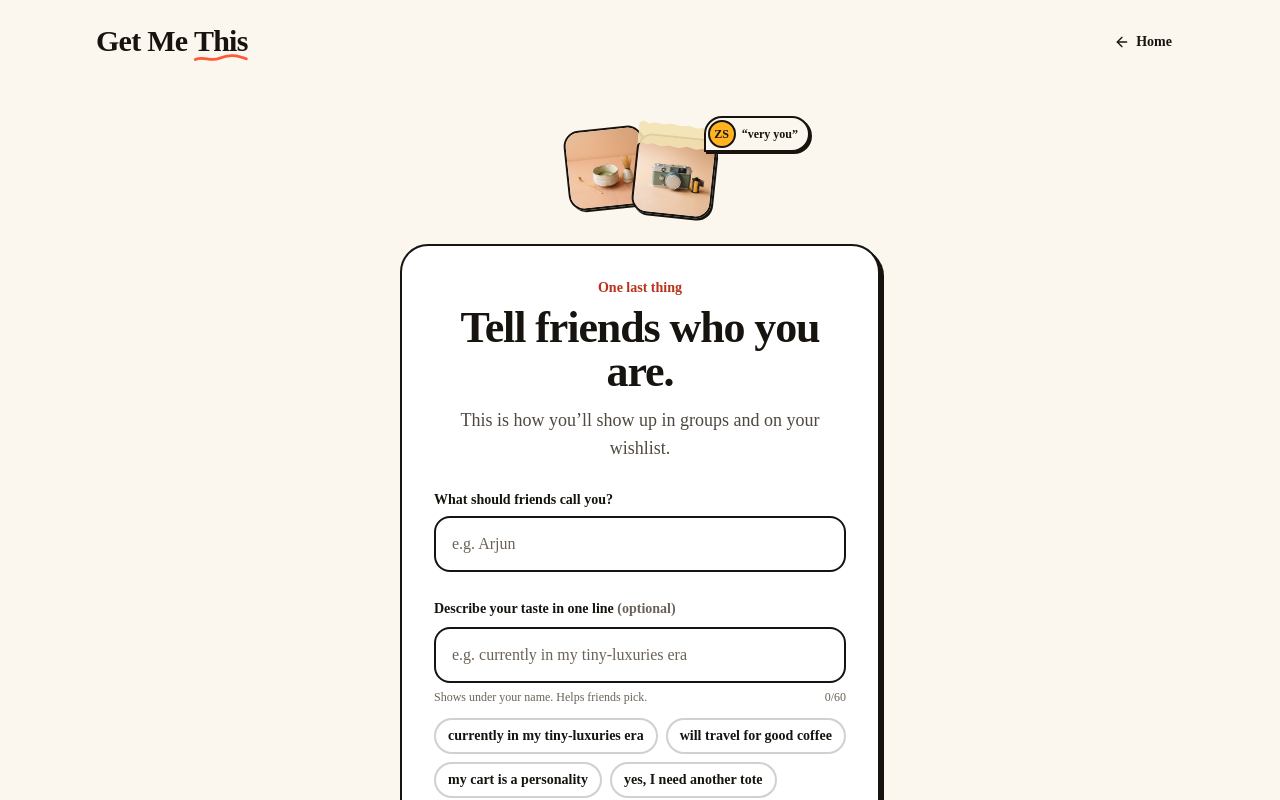
Scenario: OnboardingForm › submits a valid form to nothing: the notice appears and no navigation is claimed
Type "Arjun" into the field labelled "What should friends call you?".
click(640, 544); type("Arjun")  # box [434,516,846,572]
(page scrolled)
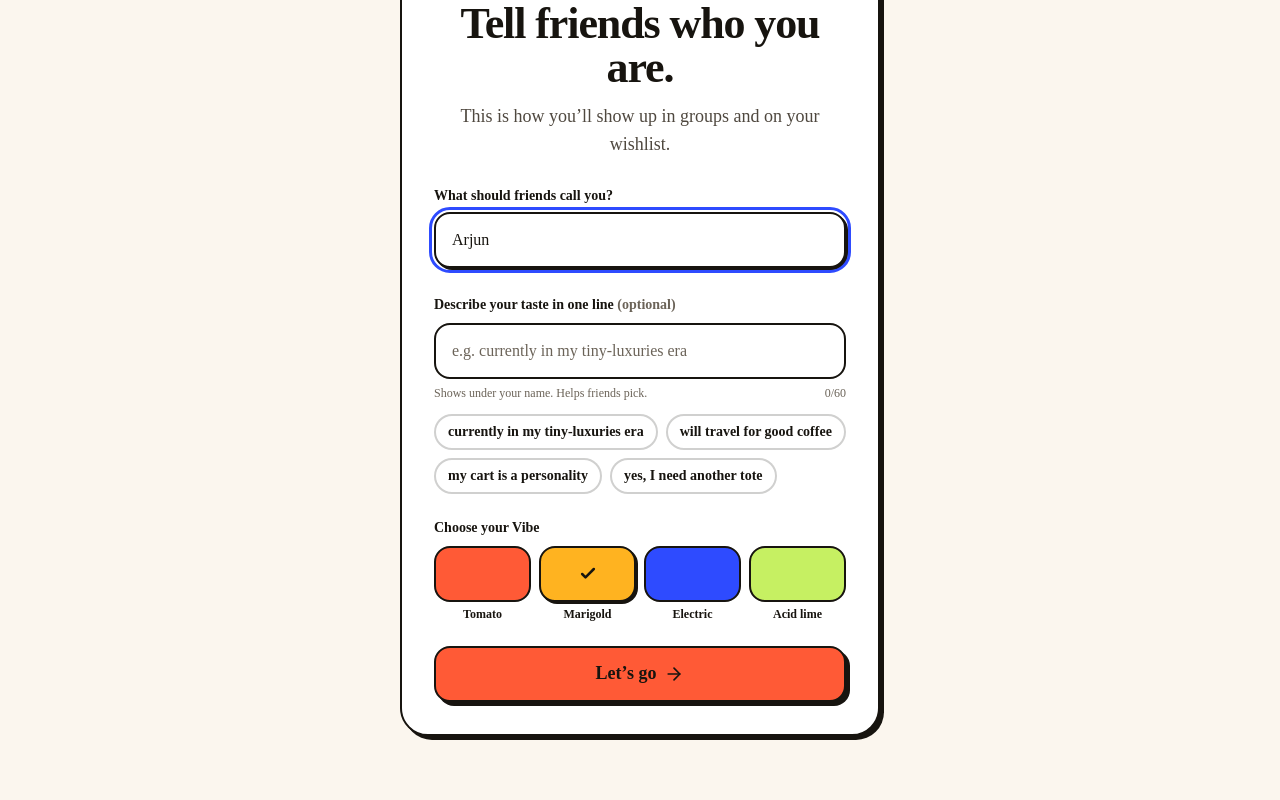
Click the button "Let’s go".
click(640, 674)  # box [434,646,846,702]
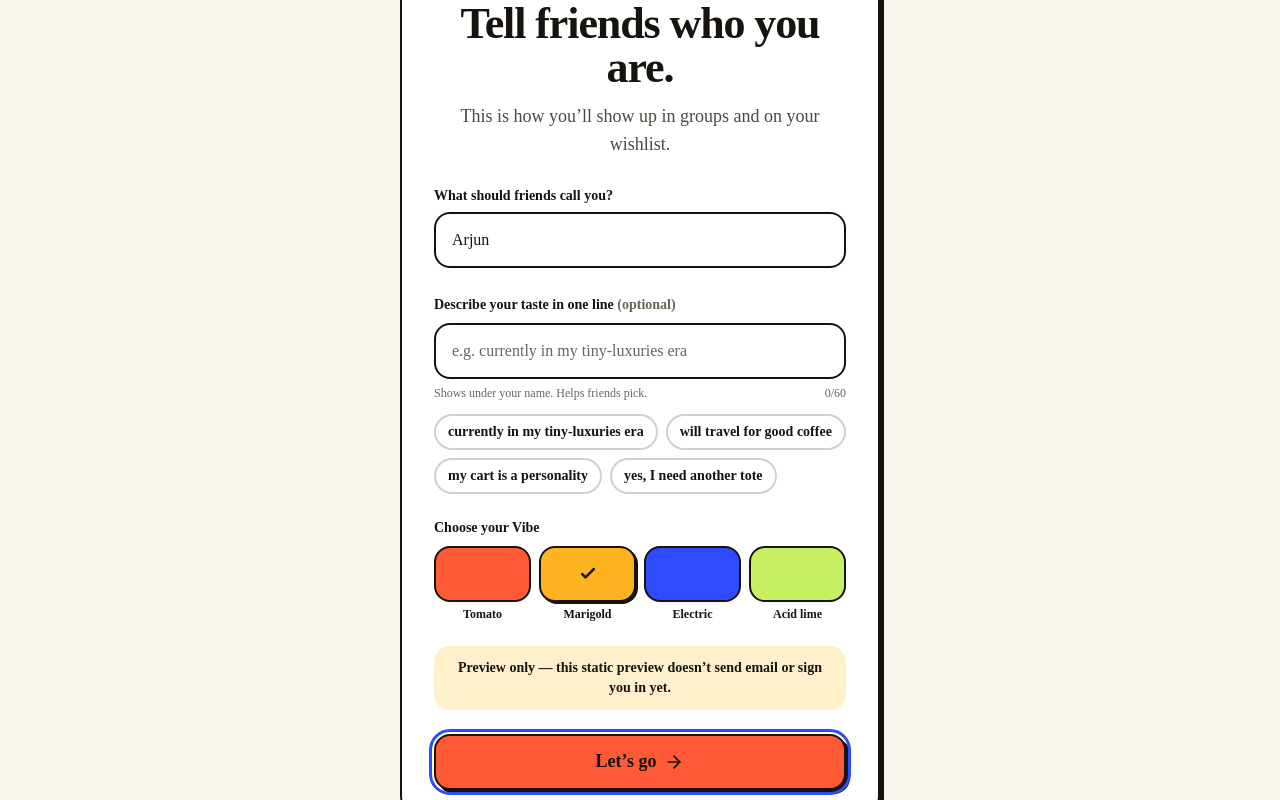
Now the text "Preview only — this static preview doesn’t send email or sign you in yet." is shown, box [434,646,846,710]
